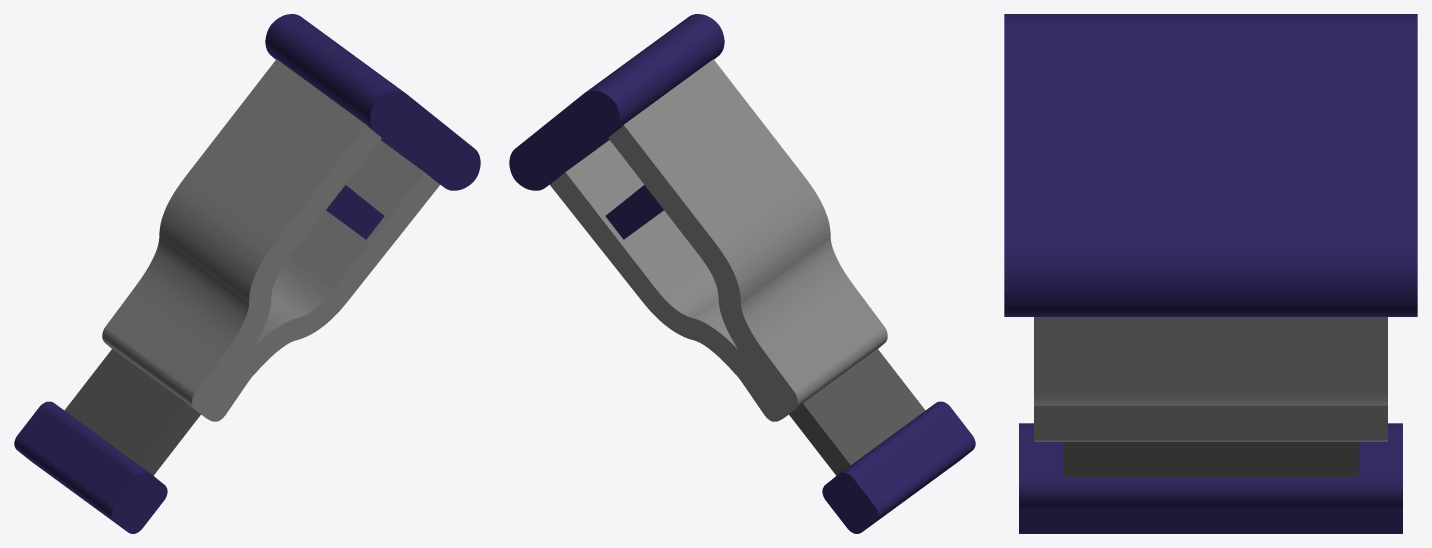
3 renders of one model, left to right at view 1: azimuth 30°, elevation 25°; view 2: azimuth 150°, elevation 25°; view 3: azimuth 270°, elevation 25°, orthographic. The views are drawn at different scales.
Parts seen in each view (by area): view 1: U+1FA7C_layer02_obj00, U+1FA7C_layer04_obj00, U+1FA7C_layer03_obj00, U+1FA7C_layer00_obj00, U+1FA7C_layer01_obj00; view 2: U+1FA7C_layer02_obj00, U+1FA7C_layer04_obj00, U+1FA7C_layer03_obj00, U+1FA7C_layer00_obj00, U+1FA7C_layer01_obj00; view 3: U+1FA7C_layer04_obj00, U+1FA7C_layer02_obj00, U+1FA7C_layer03_obj00, U+1FA7C_layer00_obj00.
Part boxes in pixels (box(x1,y1,x2,y2)): U+1FA7C_layer02_obj00: box(102, 59, 439, 421); U+1FA7C_layer04_obj00: box(265, 14, 480, 190); U+1FA7C_layer03_obj00: box(14, 401, 167, 533); U+1FA7C_layer00_obj00: box(64, 348, 200, 475); U+1FA7C_layer01_obj00: box(326, 185, 384, 239); U+1FA7C_layer02_obj00: box(550, 59, 887, 421); U+1FA7C_layer04_obj00: box(509, 14, 724, 190); U+1FA7C_layer03_obj00: box(822, 401, 975, 533); U+1FA7C_layer00_obj00: box(789, 348, 925, 475); U+1FA7C_layer01_obj00: box(605, 185, 663, 239); U+1FA7C_layer04_obj00: box(1004, 14, 1417, 316); U+1FA7C_layer02_obj00: box(1034, 317, 1387, 441); U+1FA7C_layer03_obj00: box(1019, 423, 1402, 533); U+1FA7C_layer00_obj00: box(1063, 442, 1358, 477).
Bounding box in the file's own units: 0.5636 × 0.5655 × 0.28.
